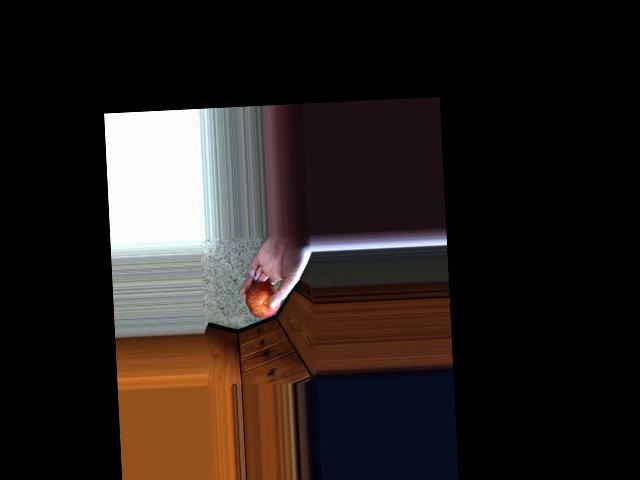apple: (242, 274, 286, 323)
